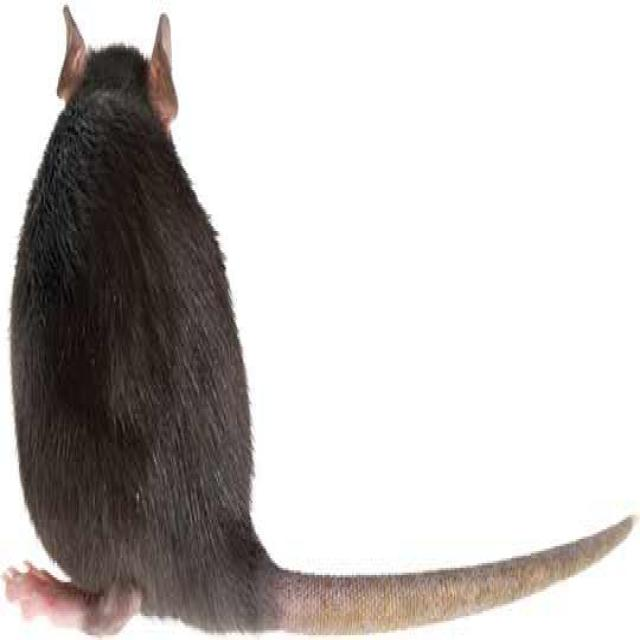rat: (5, 7, 632, 630)
